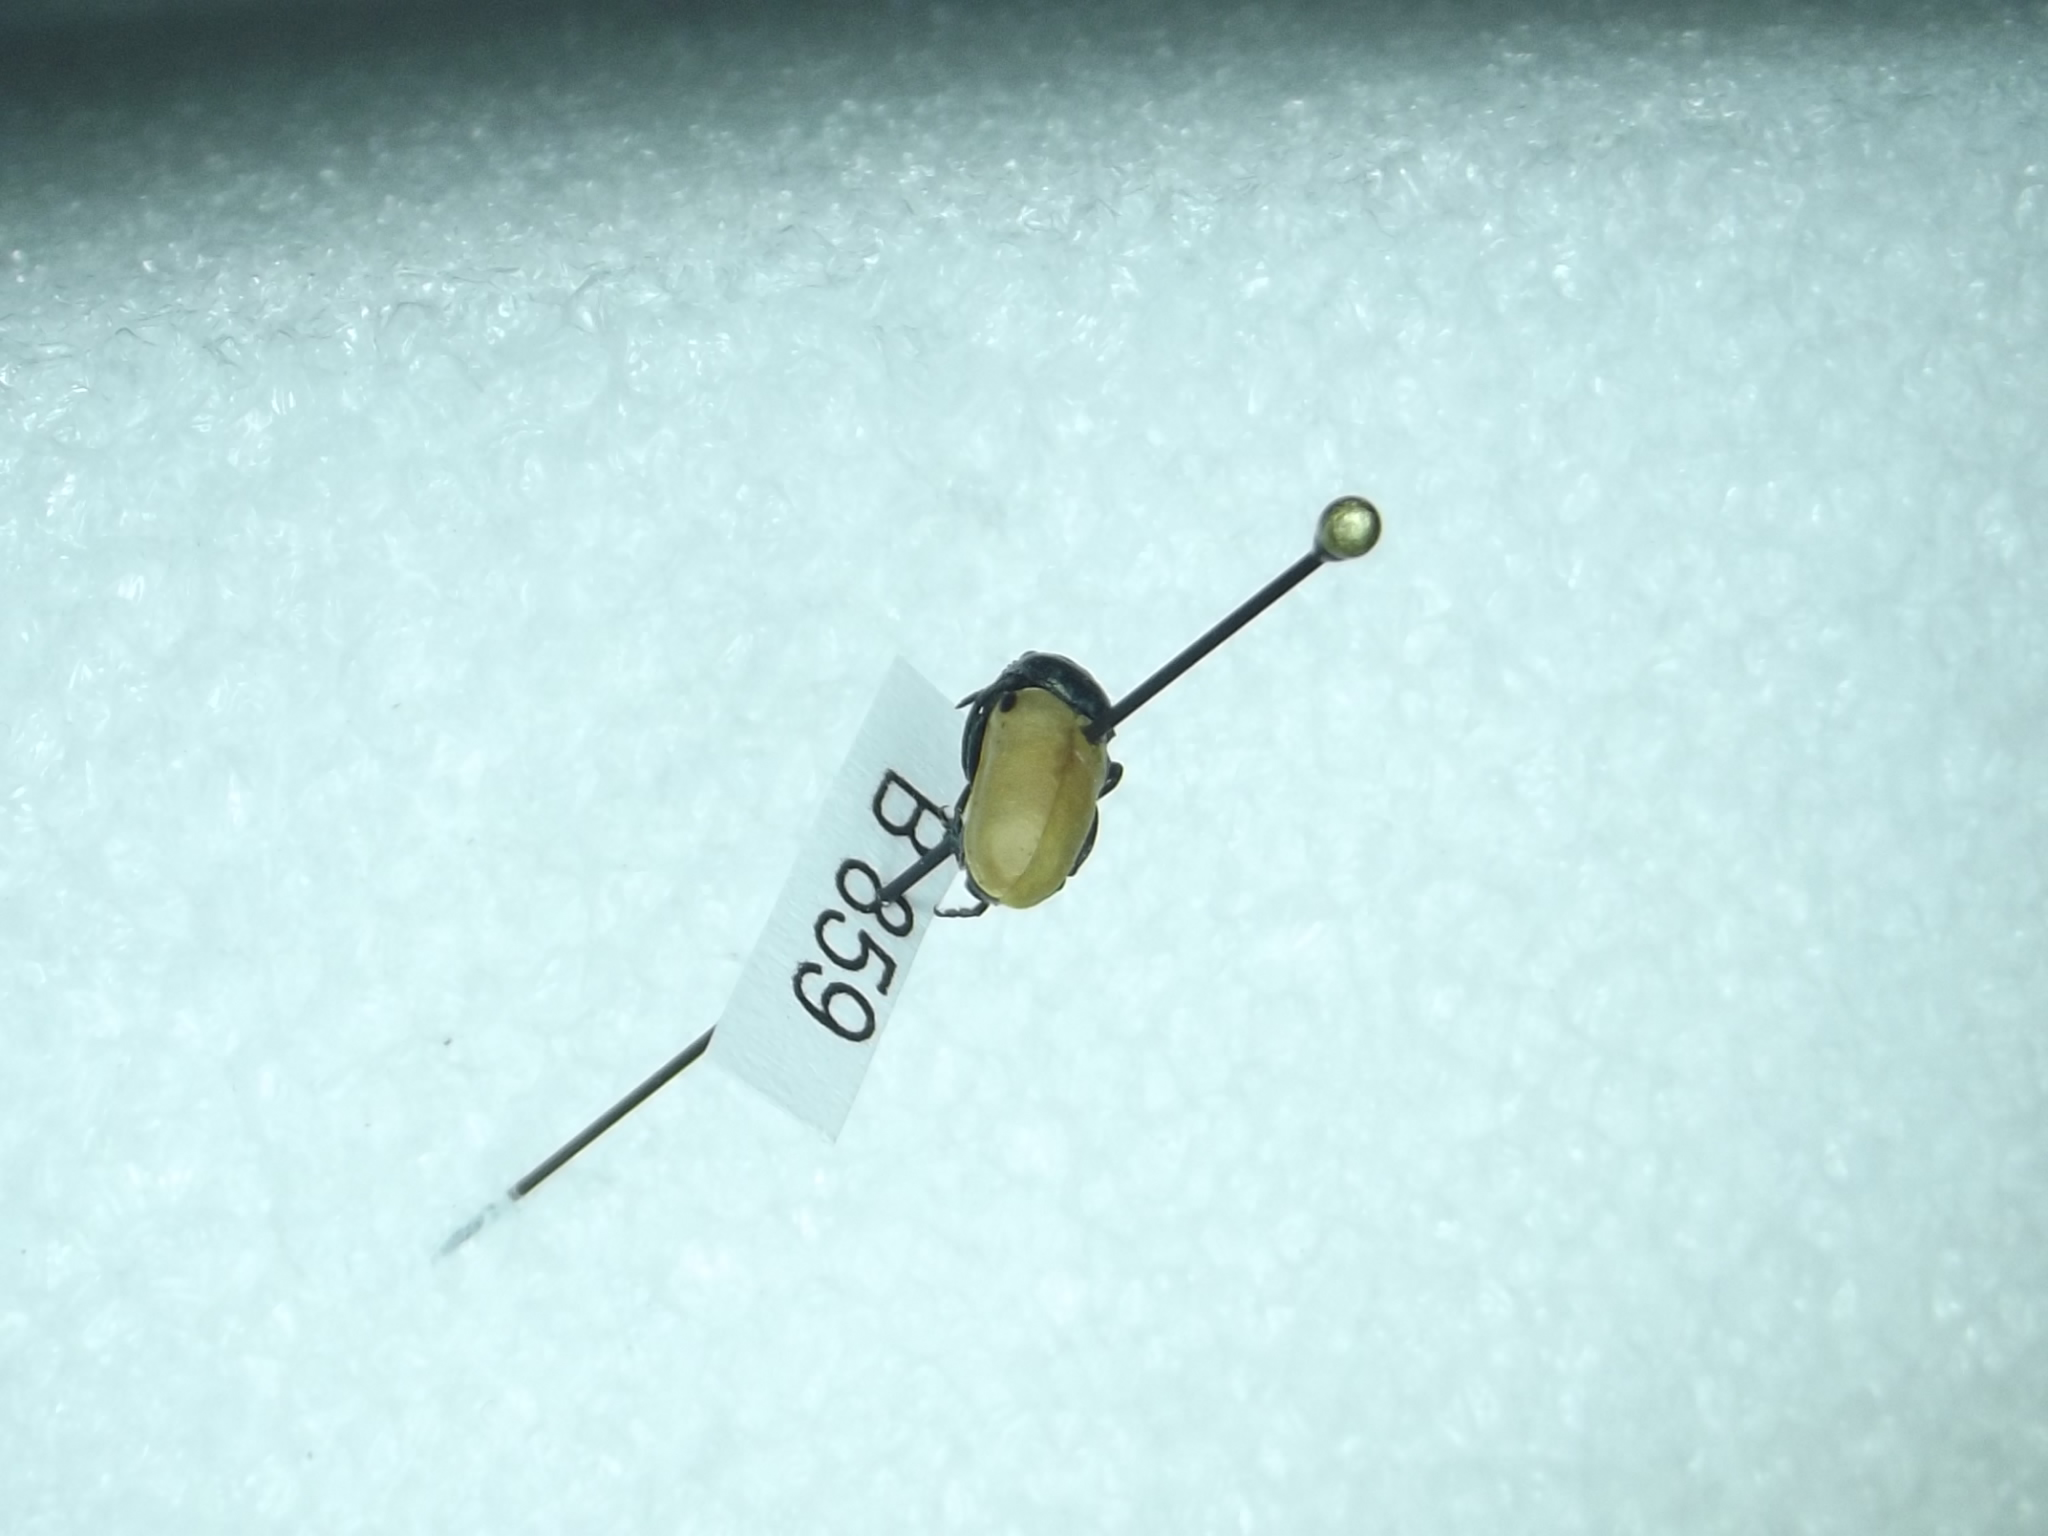Labidostomis_longimana: (934, 623, 1137, 942)
